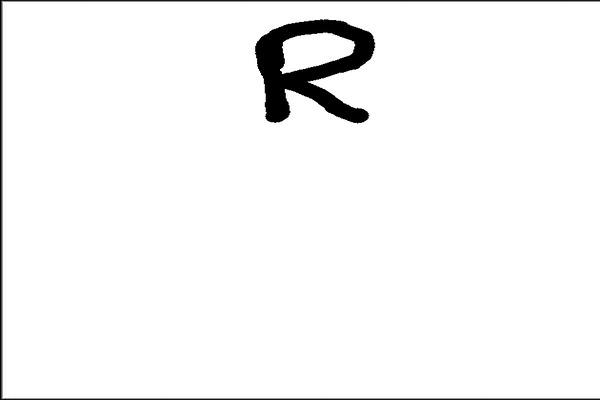R: (250, 10, 383, 132)
